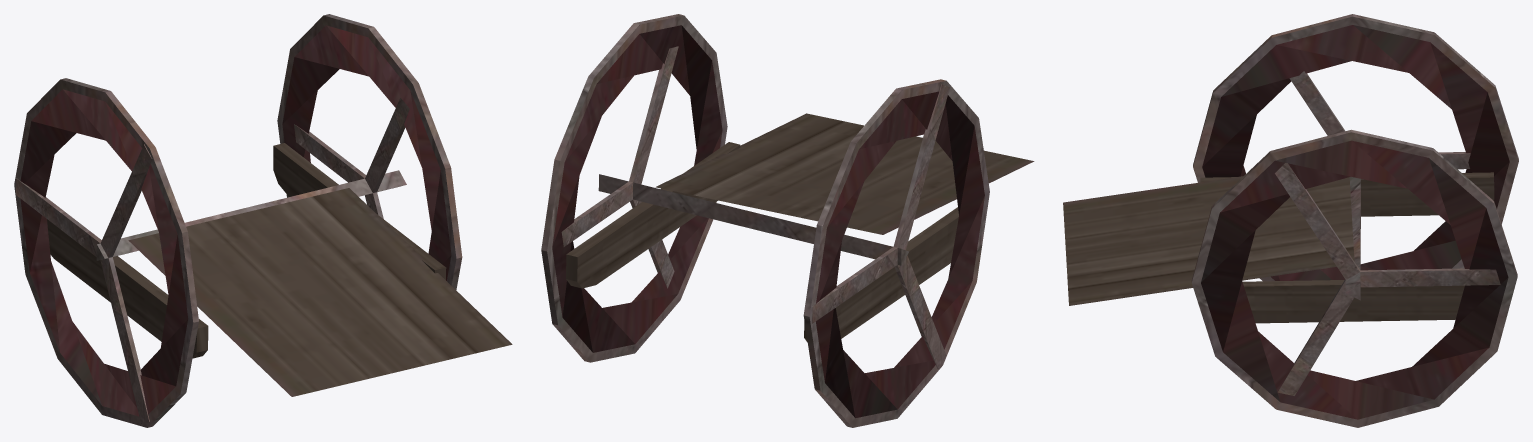
The model's file is pm-love-death-mine-wheel.glb.
The picture shows the model from 3 angles, left to right: view 1: azimuth 30°, elevation 25°; view 2: azimuth 150°, elevation 25°; view 3: azimuth 270°, elevation 25°; orthographic projection. The views are drawn at different scales.
Parts seen in each view (by area): view 1: LoveDeath_MineWheel_Art; view 2: LoveDeath_MineWheel_Art; view 3: LoveDeath_MineWheel_Art.
Boxes of the visible parts, x1=… form: LoveDeath_MineWheel_Art: x1=14, y1=14, x2=512, y2=427; LoveDeath_MineWheel_Art: x1=541, y1=14, x2=1034, y2=427; LoveDeath_MineWheel_Art: x1=1063, y1=14, x2=1518, y2=427.
Size of the model in its own units: 5.37 by 5.54 by 7.73.
1 material, 1 textured.
